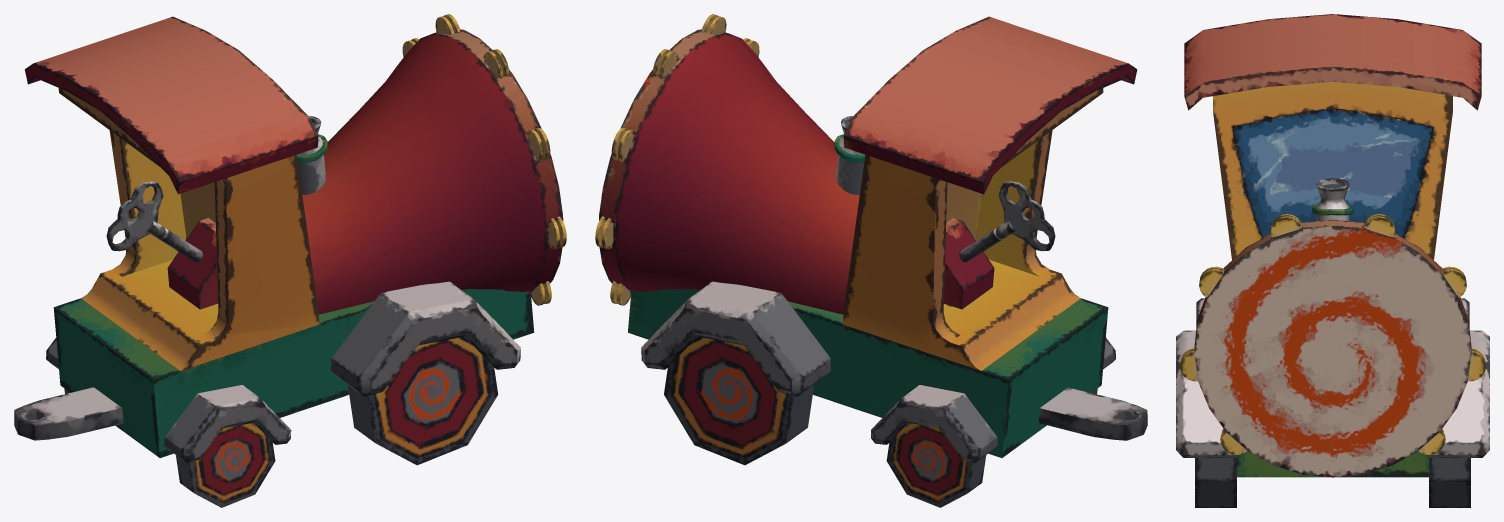
Rendered from Train.fbx.
3 renders of one model, left to right at view 1: azimuth 30°, elevation 25°; view 2: azimuth 150°, elevation 25°; view 3: azimuth 270°, elevation 25°, orthographic. The views are drawn at different scales.
Visible parts, largest first — view 1: Voorkant, Muurding, Dak, Base, Wiel-Groot, Wiel boog, Wiel-Klein.005, Wiel boog.002, aanhanger, Tamboerijn, Vakje, Cube (+2 smaller); view 2: Voorkant, Muurding, Dak, Base, Wiel-Groot, Wiel boog, Wiel-Klein.005, Wiel boog.002, aanhanger, Tamboerijn, Vakje, Cube (+2 smaller); view 3: Tamboerijn, Muurding, Dak, Wiel boog, Wiel-Groot, Base, Schoorsteen, Metale plaat.001, Metale plaat.003, Metale plaat.005, Metale plaat.007.
Part boxes in pixels (x1,y1,x2,y2): Voorkant: (302, 33, 546, 314); Muurding: (58, 88, 319, 370); Dak: (24, 16, 318, 194); Base: (53, 289, 534, 457); Wiel-Groot: (348, 336, 498, 465); Wiel boog: (331, 281, 520, 396); Wiel-Klein.005: (64, 388, 275, 507); Wiel boog.002: (46, 337, 291, 462); aanhanger: (14, 387, 123, 440); Tamboerijn: (433, 29, 563, 294); Vakje: (167, 218, 218, 309); Cube: (106, 181, 163, 251); Voorkant: (615, 33, 859, 314); Muurding: (842, 88, 1103, 370); Dak: (843, 16, 1137, 194); Base: (628, 289, 1108, 457); Wiel-Groot: (664, 336, 814, 465); Wiel boog: (641, 281, 830, 396); Wiel-Klein.005: (886, 388, 1097, 507); Wiel boog.002: (871, 337, 1115, 462); aanhanger: (1039, 387, 1147, 440); Tamboerijn: (599, 29, 728, 293); Vakje: (944, 218, 994, 309); Cube: (998, 181, 1055, 251); Tamboerijn: (1194, 219, 1471, 477); Muurding: (1213, 81, 1452, 259); Dak: (1184, 14, 1481, 110); Wiel boog: (1176, 330, 1489, 457); Wiel-Groot: (1195, 458, 1470, 507); Base: (1237, 451, 1428, 477); Schoorsteen: (1312, 178, 1353, 221); Metale plaat.001: (1271, 216, 1394, 237); Metale plaat.003: (1199, 269, 1466, 297); Metale plaat.005: (1180, 351, 1485, 381); Metale plaat.007: (1220, 429, 1445, 454).
Size of the model in its own units: 560 by 433 by 327.
